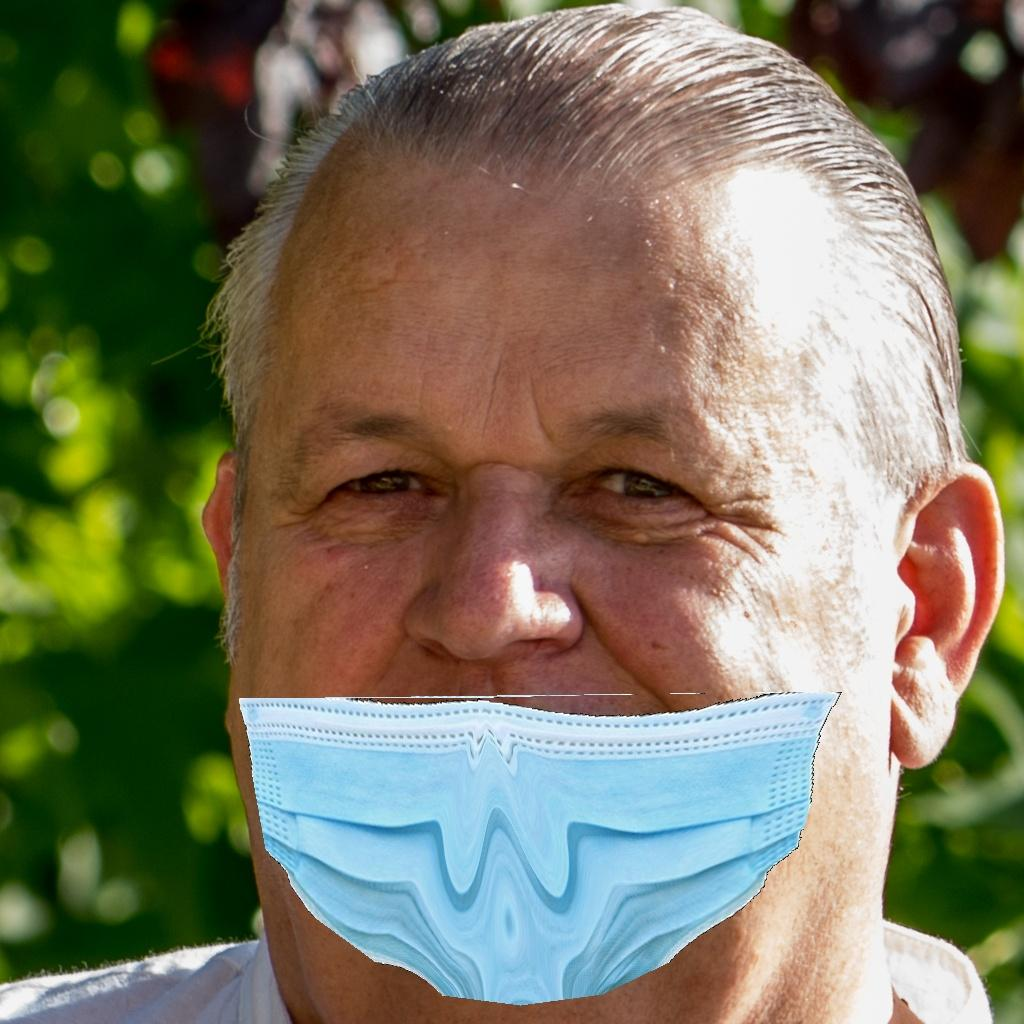Máscara Incorreta: (250, 160, 835, 977)
